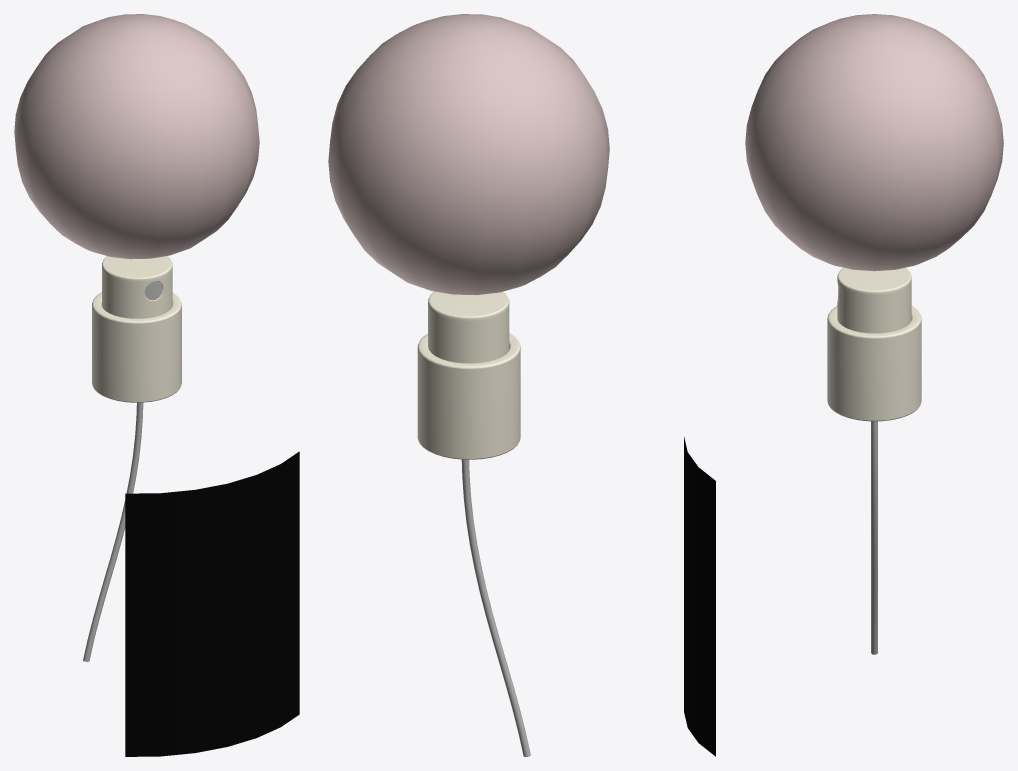
3 views of the same model, side by side, from view 1: azimuth 30°, elevation 25°; view 2: azimuth 150°, elevation 25°; view 3: azimuth 270°, elevation 25° (orthographic). The views are drawn at different scales.
Size of what is drawn, in the model's own units: 3.03 by 8.88 by 3.75.
